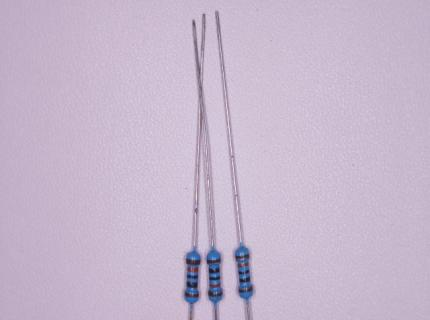Black band: (186, 282, 198, 288), (239, 277, 250, 283), (208, 268, 219, 273), (239, 270, 250, 275), (187, 275, 198, 279), (209, 277, 220, 281)
Brown band: (238, 286, 253, 293), (187, 259, 201, 265), (236, 253, 250, 259), (209, 291, 223, 296), (185, 292, 198, 297), (207, 259, 221, 263)
Orange band: (238, 262, 248, 268), (187, 267, 198, 272), (210, 283, 221, 288)
